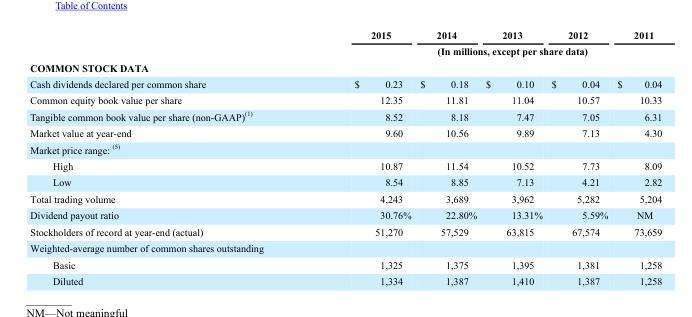table: (29, 28, 661, 286)
table column: (29, 28, 302, 286), (302, 28, 414, 286), (414, 28, 480, 286), (480, 28, 546, 286), (546, 28, 611, 286), (611, 28, 661, 286)
table column header: (29, 28, 661, 58)
table projected row header: (29, 58, 661, 75), (29, 140, 661, 157), (29, 239, 661, 255)
table row: (29, 58, 661, 75), (29, 107, 661, 124), (29, 140, 661, 157), (29, 173, 661, 190), (29, 206, 661, 223), (29, 255, 661, 272), (29, 42, 661, 58), (29, 75, 661, 91), (29, 91, 661, 107), (29, 124, 661, 140), (29, 157, 661, 173), (29, 190, 661, 206), (29, 223, 661, 239), (29, 239, 661, 255), (29, 28, 661, 42), (29, 272, 661, 286)
table spanning cell: (302, 42, 661, 58)
